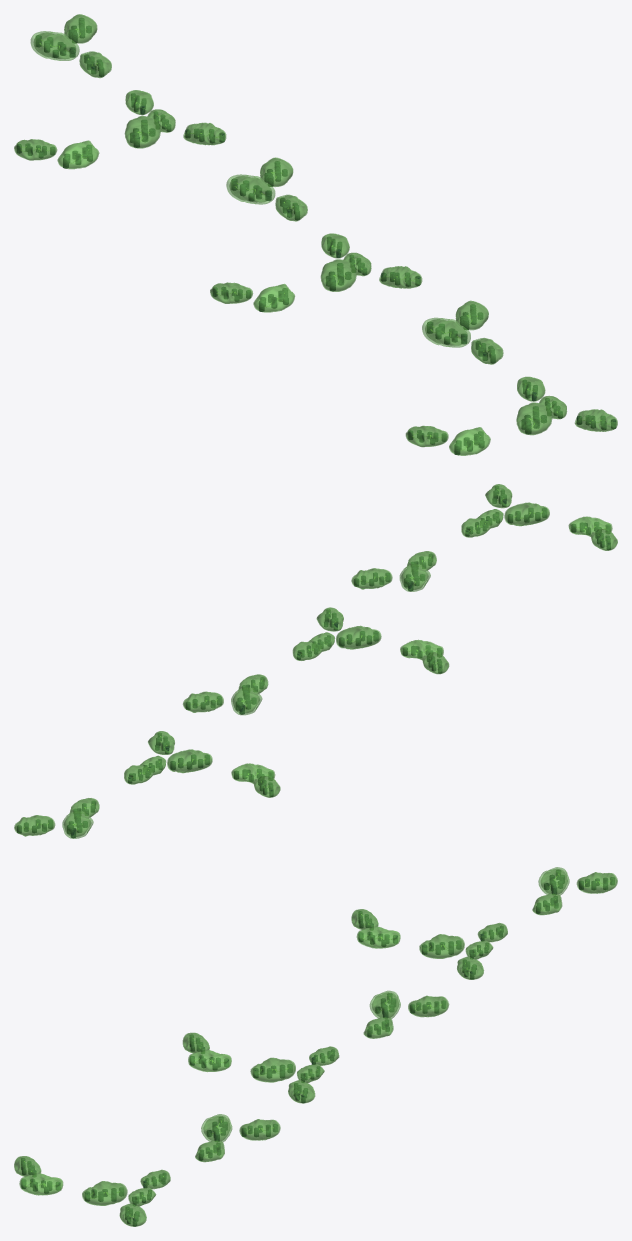
The model's file is Kloroplas.glb.
3 renders of one model, top to bottom at view 1: azimuth 30°, elevation 25°; view 2: azimuth 150°, elevation 25°; view 3: azimuth 330°, elevation 25°, orthographic. The views are drawn at different scales.
Parts seen in each view (by area): view 1: Cube.291, Cube.1341, Cube.1818, Cube.083, Cube.017, Cube.1558, Cube.1289, Cube.1766, Cube.239, Cube.1662, Cube.135, Cube.1185 (+9 smaller); view 2: Cube.083, Cube.017, Cube.1558, Cube.343, Cube.1393, Cube.1870, Cube.291, Cube.1818, Cube.1341, Cube.1766, Cube.1289, Cube.239 (+3 smaller); view 3: Cube.083, Cube.017, Cube.1558, Cube.1289, Cube.1766, Cube.239, Cube.1393, Cube.343, Cube.1870, Cube.1341, Cube.1818, Cube.291 (+6 smaller).
Part boxes in pixels (x1,y1,x2,y2): Cube.291: (226, 174, 275, 204); Cube.1341: (422, 317, 470, 347); Cube.1818: (30, 31, 79, 60); Cube.083: (320, 259, 356, 291); Cube.017: (516, 402, 552, 435); Cube.1558: (124, 115, 160, 148); Cube.1289: (449, 427, 490, 455); Cube.1766: (57, 140, 99, 169); Cube.239: (253, 284, 294, 312); Cube.1662: (183, 122, 226, 145); Cube.135: (379, 266, 422, 288); Cube.1185: (574, 409, 617, 431); Cube.083: (336, 625, 381, 649); Cube.017: (504, 502, 549, 526); Cube.1558: (167, 749, 212, 773); Cube.343: (183, 691, 223, 712); Cube.1393: (351, 568, 392, 589); Cube.1870: (14, 815, 55, 836); Cube.291: (231, 687, 262, 715); Cube.1818: (62, 810, 93, 838); Cube.1341: (399, 563, 430, 591); Cube.1766: (231, 763, 275, 783); Cube.1289: (568, 516, 612, 536); Cube.239: (400, 639, 443, 659); Cube.083: (250, 1057, 295, 1082); Cube.017: (82, 1181, 127, 1205); Cube.1558: (419, 934, 464, 958); Cube.1289: (19, 1173, 63, 1195); Cube.1766: (356, 926, 400, 948); Cube.239: (188, 1050, 231, 1071); Cube.1393: (239, 1119, 280, 1140); Cube.343: (408, 995, 449, 1017); Cube.1870: (576, 872, 617, 893); Cube.1341: (201, 1114, 232, 1142); Cube.1818: (538, 867, 569, 895); Cube.291: (369, 990, 400, 1018).
Bounding box in the file's own units: 1.54 × 0.1951 × 7.73.
